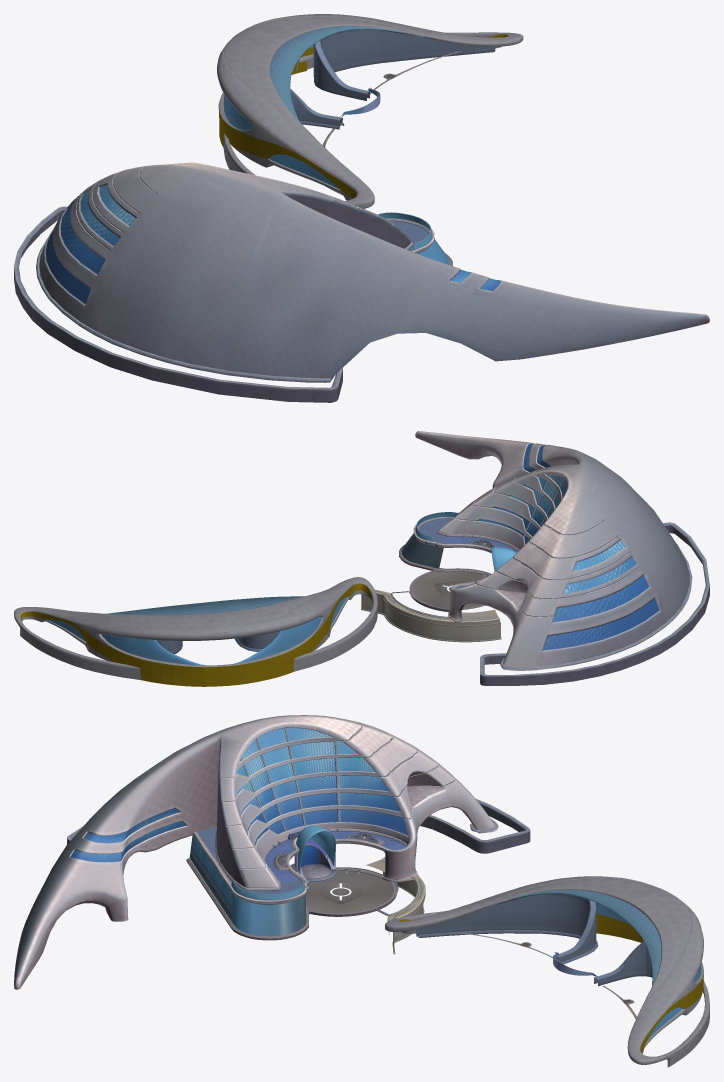
Rendered from pref_sm_4v4pointbake_CSD_R_lv1.fbx.
The picture shows the model from 3 angles, top to bottom: view 1: azimuth 30°, elevation 25°; view 2: azimuth 150°, elevation 25°; view 3: azimuth 270°, elevation 25°; orthographic projection. The views are drawn at different scales.
Visible parts, largest first — view 1: sm_4v4pointbake_CSD_R_i_lv1, sm_4v4pointbake_CSD_R_d_lv1, sm_4v4pointbake_CSD_R_c_lv1, sm_4v4pointbake_CSD_R_h_lv1, sm_4v4pointbake_CSD_R_b_lv1; view 2: sm_4v4pointbake_CSD_R_i_lv1, sm_4v4pointbake_CSD_R_d_lv1, sm_4v4pointbake_CSD_R_h_lv1, sm_4v4pointbake_CSD_R_c_lv1, sm_4v4pointbake_CSD_R_b_lv1, sm_4v4pointbake_CSD_R_a_lv1, sm_4v4pointbake_CSD_R_f_lv1; view 3: sm_4v4pointbake_CSD_R_i_lv1, sm_4v4pointbake_CSD_R_h_lv1, sm_4v4pointbake_CSD_R_d_lv1, sm_4v4pointbake_CSD_R_c_lv1, sm_4v4pointbake_CSD_R_f_lv1, sm_4v4pointbake_CSD_R_b_lv1, sm_4v4pointbake_CSD_R_a_lv1.
Boxes of the visible parts, <box> form: sm_4v4pointbake_CSD_R_i_lv1: <box>14,162,709,402</box>; sm_4v4pointbake_CSD_R_d_lv1: <box>217,14,523,208</box>; sm_4v4pointbake_CSD_R_c_lv1: <box>218,29,507,198</box>; sm_4v4pointbake_CSD_R_h_lv1: <box>46,185,500,304</box>; sm_4v4pointbake_CSD_R_b_lv1: <box>223,26,413,188</box>; sm_4v4pointbake_CSD_R_i_lv1: <box>399,431,709,685</box>; sm_4v4pointbake_CSD_R_d_lv1: <box>14,577,377,679</box>; sm_4v4pointbake_CSD_R_h_lv1: <box>401,443,659,650</box>; sm_4v4pointbake_CSD_R_c_lv1: <box>20,583,371,686</box>; sm_4v4pointbake_CSD_R_b_lv1: <box>47,596,347,665</box>; sm_4v4pointbake_CSD_R_a_lv1: <box>361,589,501,642</box>; sm_4v4pointbake_CSD_R_f_lv1: <box>412,571,487,609</box>; sm_4v4pointbake_CSD_R_i_lv1: <box>14,715,530,989</box>; sm_4v4pointbake_CSD_R_h_lv1: <box>70,727,408,936</box>; sm_4v4pointbake_CSD_R_d_lv1: <box>385,876,709,1067</box>; sm_4v4pointbake_CSD_R_c_lv1: <box>399,893,703,1052</box>; sm_4v4pointbake_CSD_R_f_lv1: <box>305,871,393,913</box>; sm_4v4pointbake_CSD_R_b_lv1: <box>495,889,701,1042</box>; sm_4v4pointbake_CSD_R_a_lv1: <box>366,857,425,954</box>.
Size of the model in its own units: 74.09 by 17.41 by 75.67.
